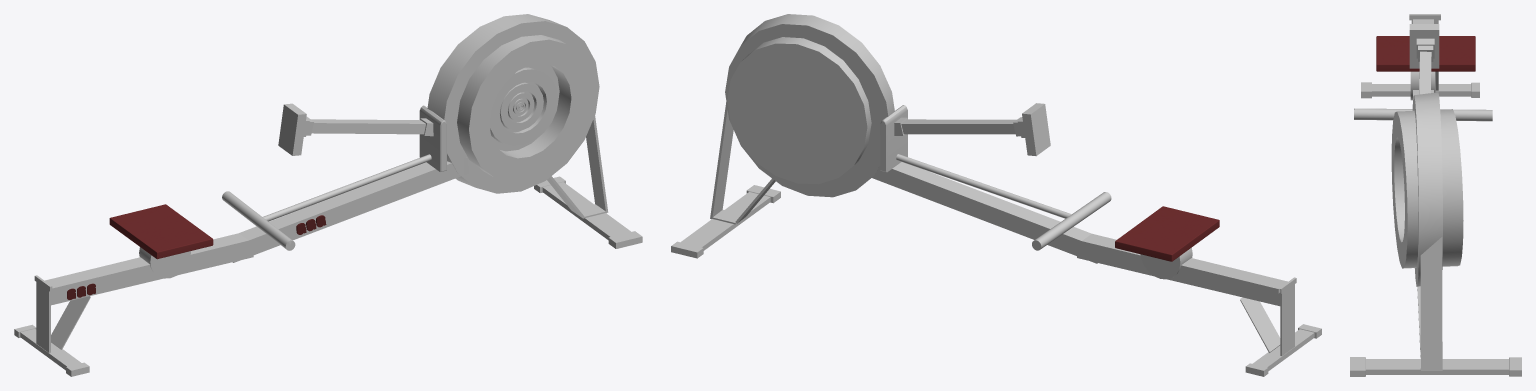
Rendered from rowing machince with texture.fbx.
3 renders of one model, left to right at view 1: azimuth 30°, elevation 25°; view 2: azimuth 150°, elevation 25°; view 3: azimuth 270°, elevation 25°, orthographic. The views are drawn at different scales.
Visible parts, largest first — view 1: polySurface787, polySurface794, polySurface781, polySurface795; view 2: polySurface787, polySurface794, polySurface781; view 3: polySurface787, polySurface794, polySurface774.
Part boxes in pixels (x1,y1,x2,y2): polySurface787: [14, 14, 642, 376]; polySurface794: [109, 204, 213, 259]; polySurface781: [419, 105, 446, 171]; polySurface795: [500, 82, 543, 130]; polySurface787: [671, 14, 1321, 376]; polySurface794: [1115, 206, 1219, 261]; polySurface781: [880, 105, 907, 172]; polySurface787: [1350, 14, 1521, 376]; polySurface794: [1376, 36, 1475, 71]; polySurface774: [1418, 45, 1433, 61].
Bounding box in the file's own units: 186 × 68.54 × 46.84.
